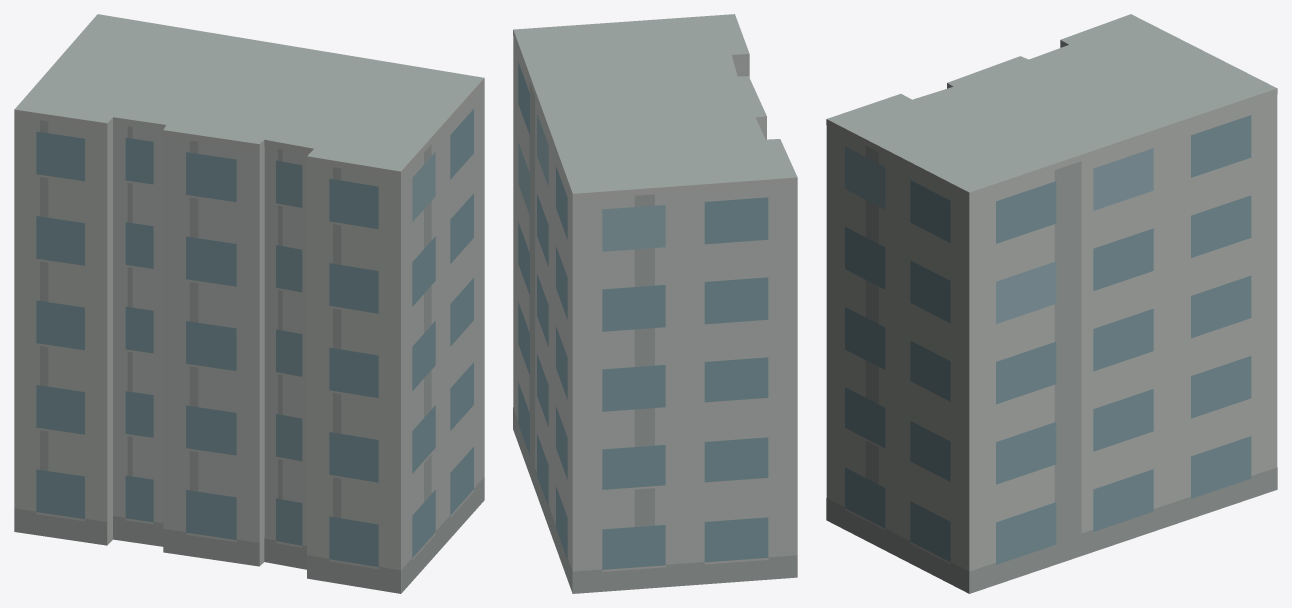
File: survey-upis-32884744.glb
3 views of the same model, side by side, from view 1: azimuth 30°, elevation 25°; view 2: azimuth 150°, elevation 25°; view 3: azimuth 270°, elevation 25° (orthographic). The views are drawn at different scales.
Parts seen in each view (by area): view 1: survey-upis-32884744.tmp; view 2: survey-upis-32884744.tmp; view 3: survey-upis-32884744.tmp.
Boxes of the visible parts, x1,y1,x2,y2 form: survey-upis-32884744.tmp: [14, 14, 484, 593]; survey-upis-32884744.tmp: [513, 14, 797, 593]; survey-upis-32884744.tmp: [826, 14, 1277, 593].
Bounding box in the file's own units: 14.66 × 15.35 × 15.64.
